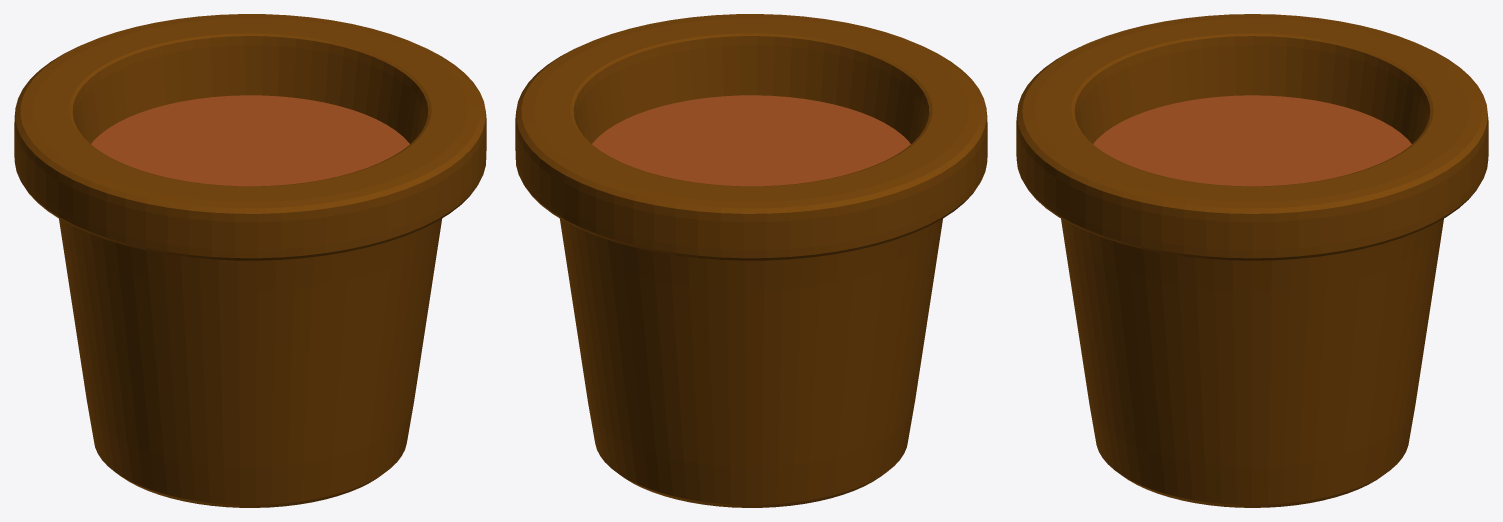
Rendered from uekibachi.fbx.
3 views of the same model, side by side, from view 1: azimuth 30°, elevation 25°; view 2: azimuth 150°, elevation 25°; view 3: azimuth 270°, elevation 25° (orthographic).
Visible parts, largest first — view 1: 円柱; view 2: 円柱; view 3: 円柱.
Boxes of the visible parts, left/top/right/bottom form: 円柱: left=14, top=14, right=486, bottom=507; 円柱: left=515, top=14, right=987, bottom=507; 円柱: left=1016, top=14, right=1488, bottom=507.
Bounding box in the file's own units: 235 × 184 × 235.
